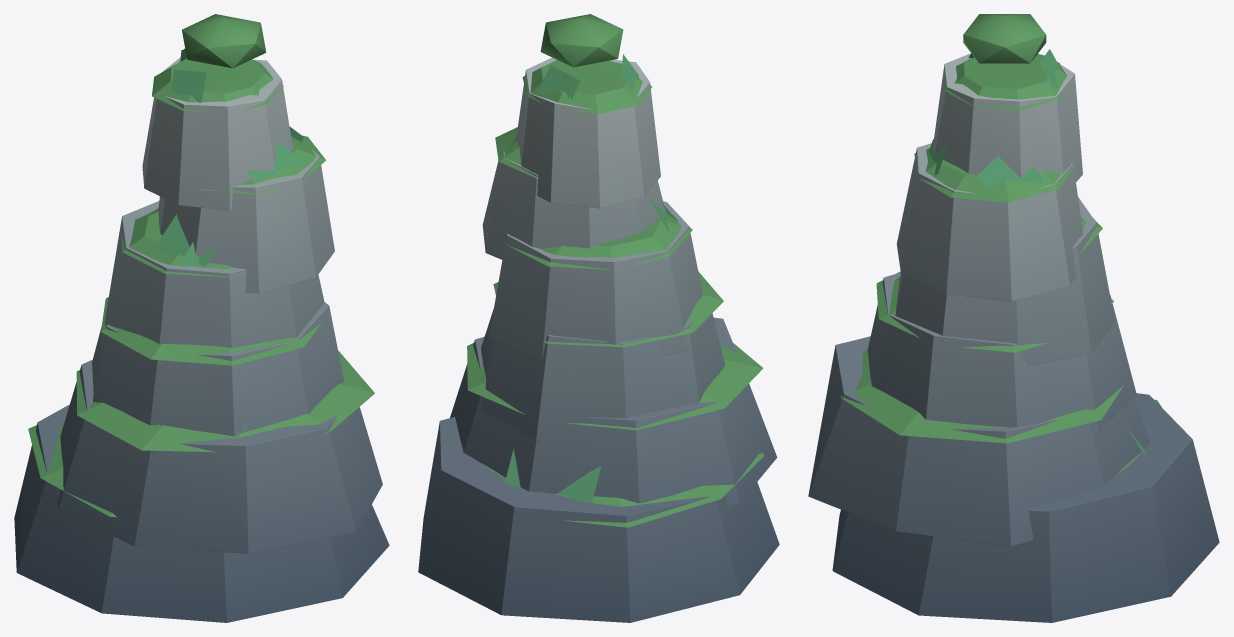
The model's file is karst_c.glb.
3 views of the same model, side by side, from view 1: azimuth 30°, elevation 25°; view 2: azimuth 150°, elevation 25°; view 3: azimuth 270°, elevation 25° (orthographic). The views are drawn at different scales.
Parts seen in each view (by area): view 1: Karst, Leaves; view 2: Karst, Leaves; view 3: Karst, Leaves.
Part boxes in pixels (bbox=[...]): Karst: bbox=[14, 14, 389, 622]; Leaves: bbox=[151, 48, 304, 432]; Karst: bbox=[418, 14, 779, 622]; Leaves: bbox=[505, 54, 678, 502]; Karst: bbox=[808, 14, 1219, 622]; Leaves: bbox=[867, 49, 1145, 455].
Size of the model in its own units: 26.74 by 41.61 by 28.86.
